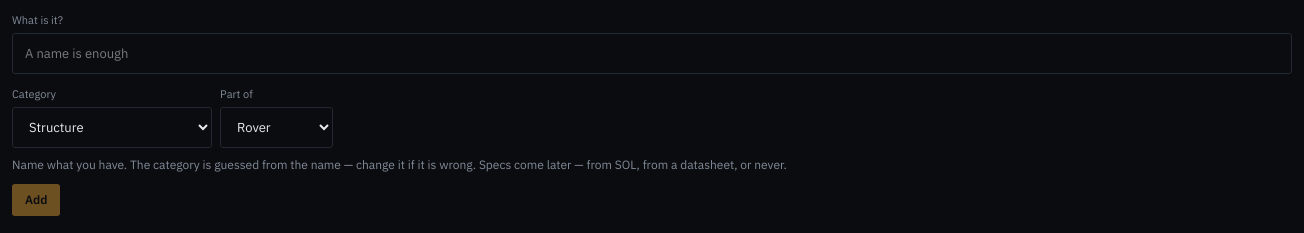
Test: re-guesses when the name changes until the user has chosen a category
In the field labelled "What is it?": [652, 53] box x1=12 y1=32 x2=1292 y2=74, type "servo"
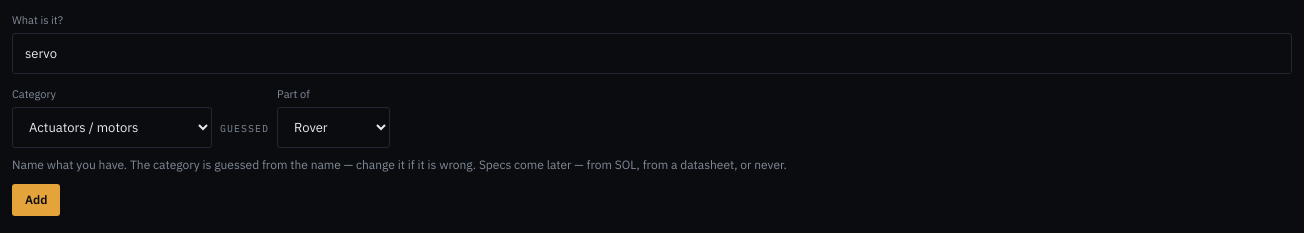
Result: the dropdown labelled "Category" shows "Actuators / motors" at x1=12 y1=106 x2=212 y2=148
Replace the text in the field labelled "What is it?" with "lipo": [652, 53] box x1=12 y1=32 x2=1292 y2=74
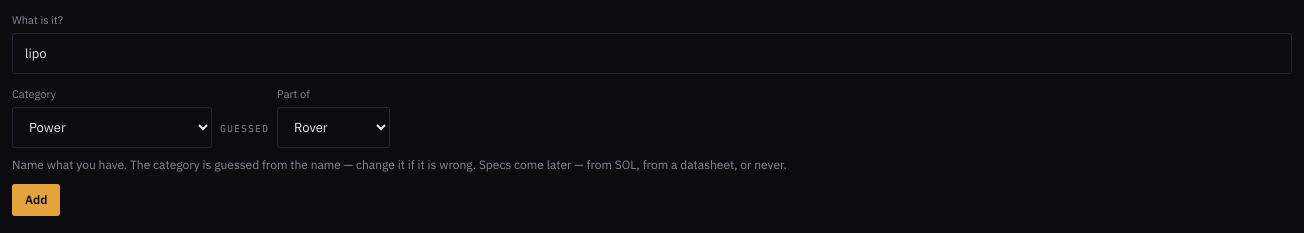
Result: the dropdown labelled "Category" shows "Power" at x1=12 y1=106 x2=212 y2=148
